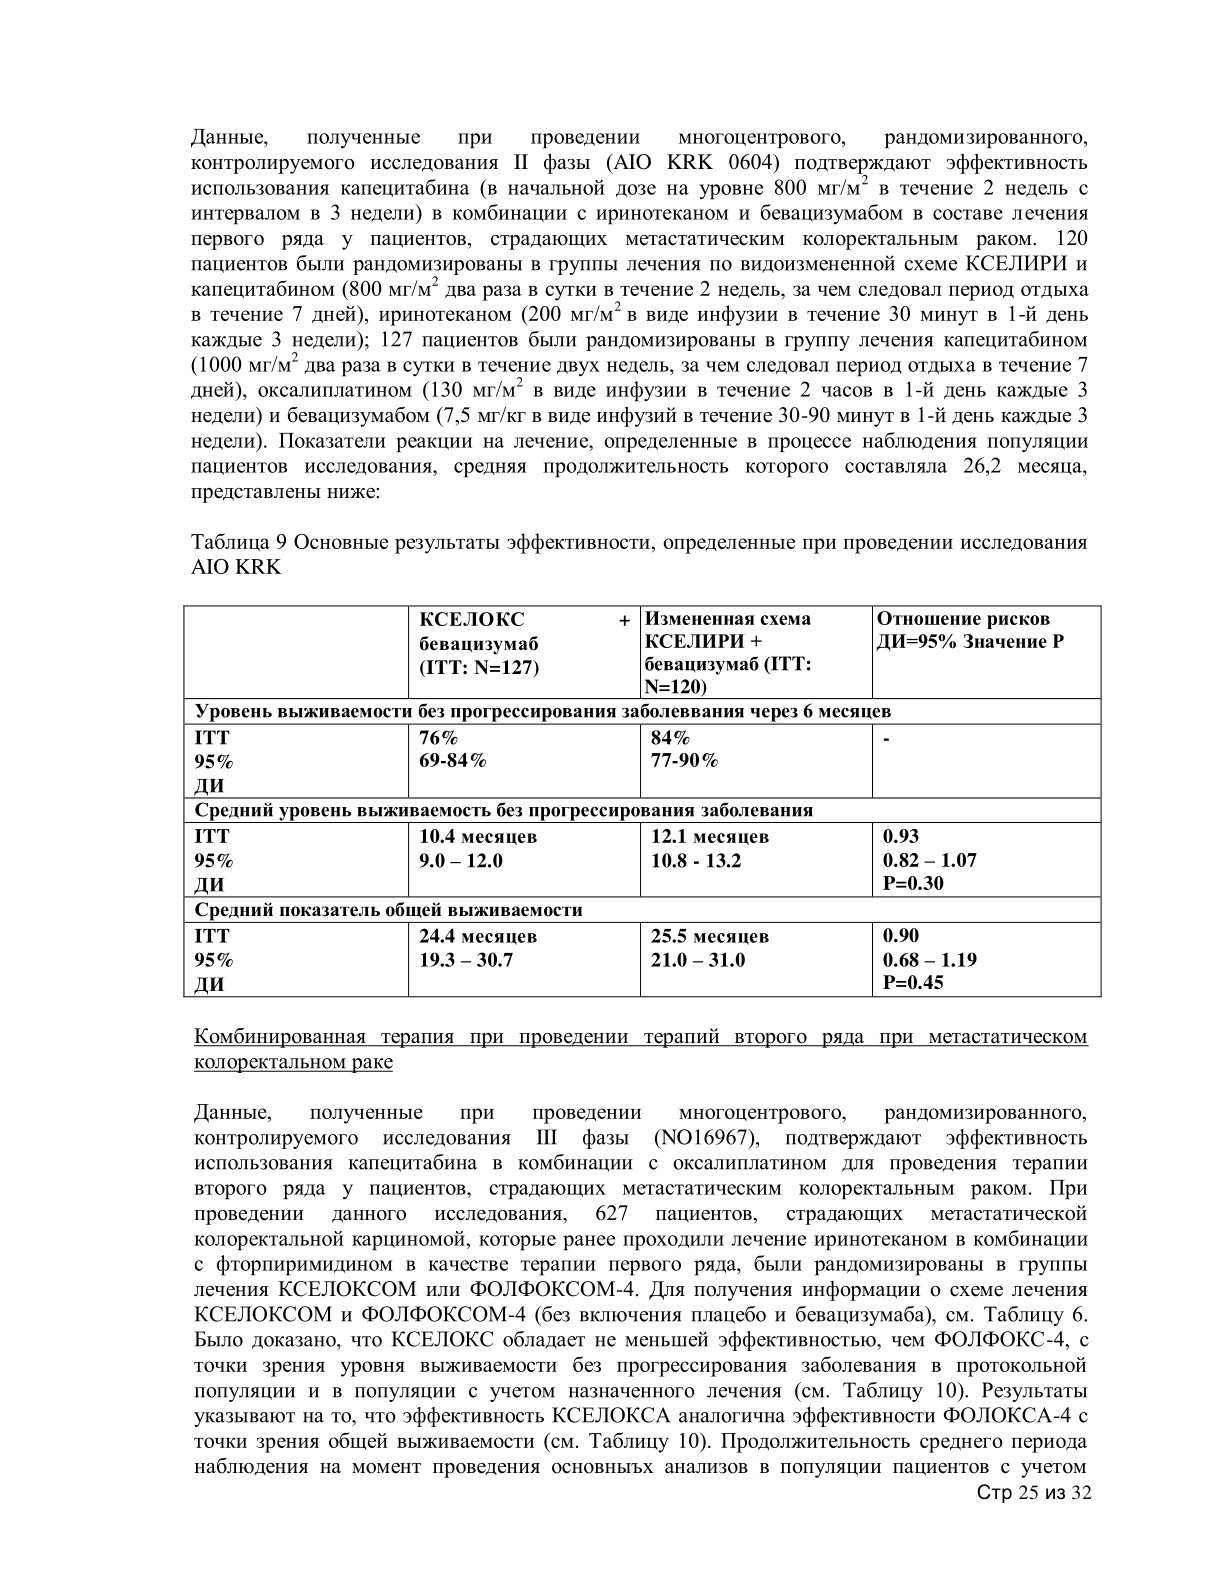merged_cells: (183, 603, 1103, 998)
